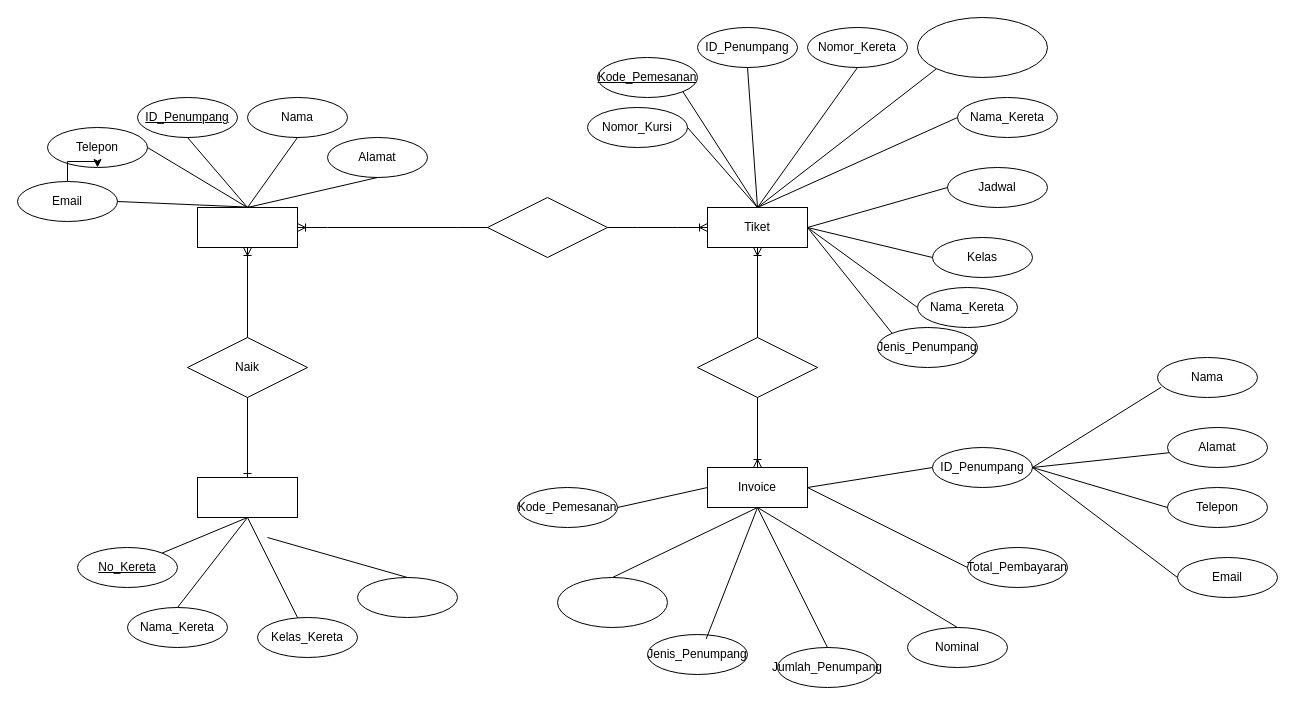
This 1295x705 diagram has some shape labels left out. The centre of each missing label's shape, as x and y in pixels:
"Beli" belongs at point 547,227.
"Kereta" belongs at point 247,497.
"Kode_Pembayaran" belongs at point 612,602.
"Muncul" belongs at point 757,367.
"Penumpang" belongs at point 247,227.
"Rute_Kereta" belongs at point 407,597.
"Tanggal_Perjalanan" belongs at point 982,47.
